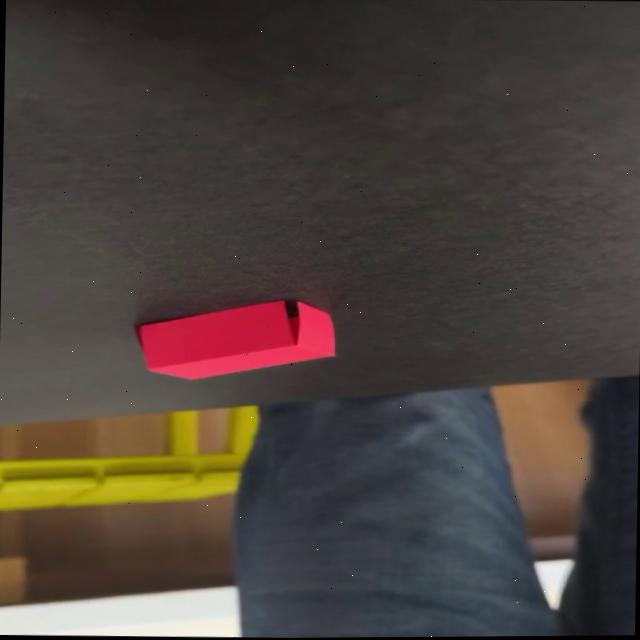red block: (134, 296, 338, 384)
